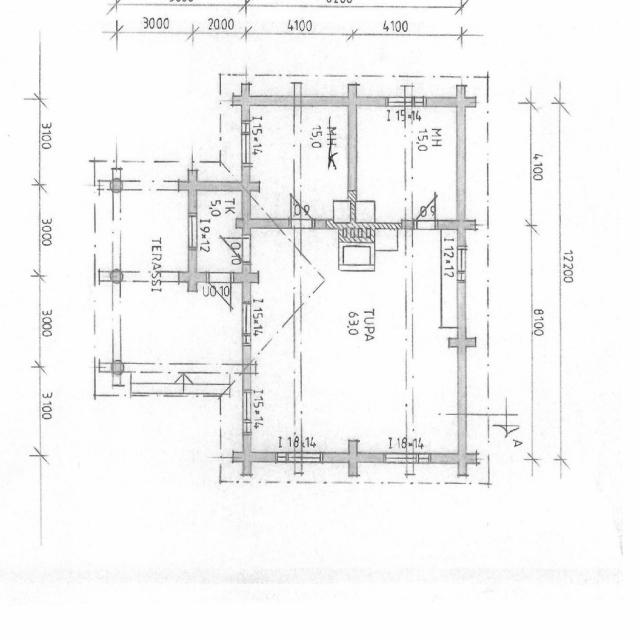door: (208, 273, 231, 307), (290, 194, 313, 228), (219, 238, 249, 262), (414, 195, 435, 228)
